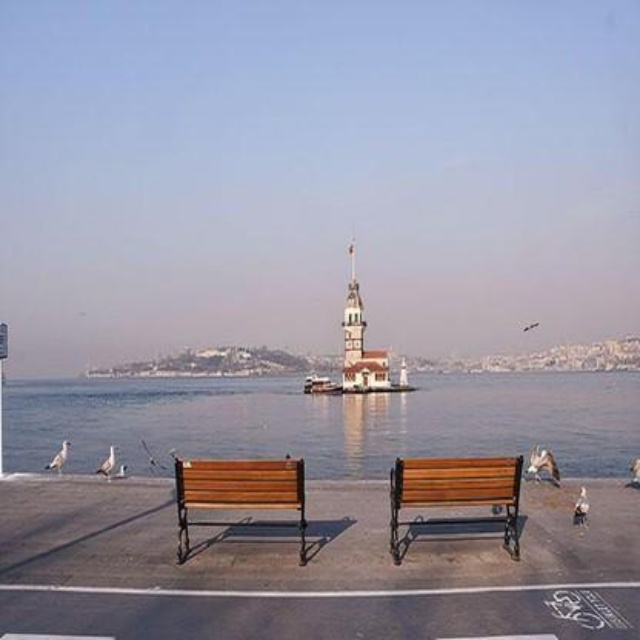obstacle: (375, 448, 532, 577), (163, 445, 314, 569)
